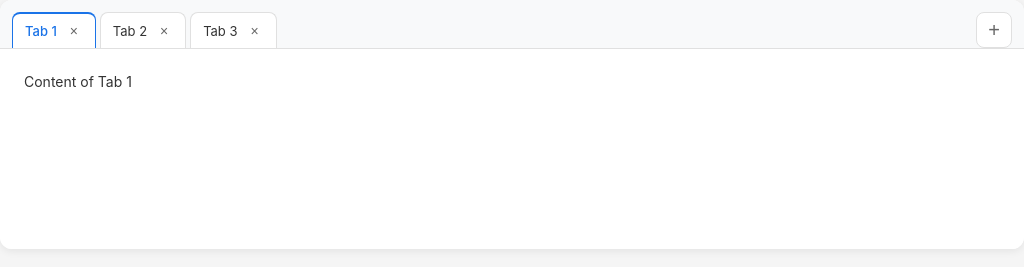
Scenario: TabContainer Component › closes a tab when close button is clicked
Click the text "Tab 2" at (130, 30), box [113,22,147,38]
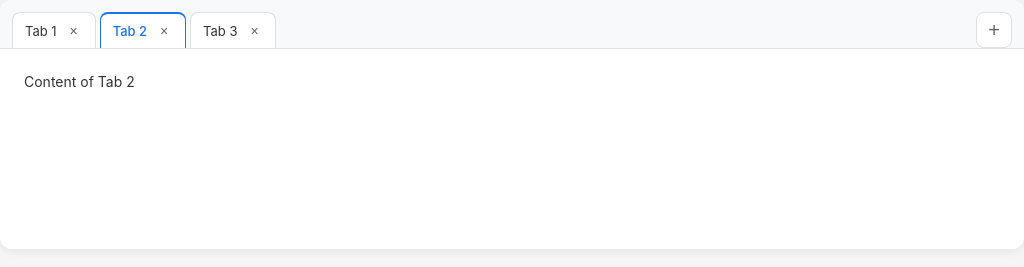
Click the button named "Close Tab" at (164, 31), box [155,22,173,40]
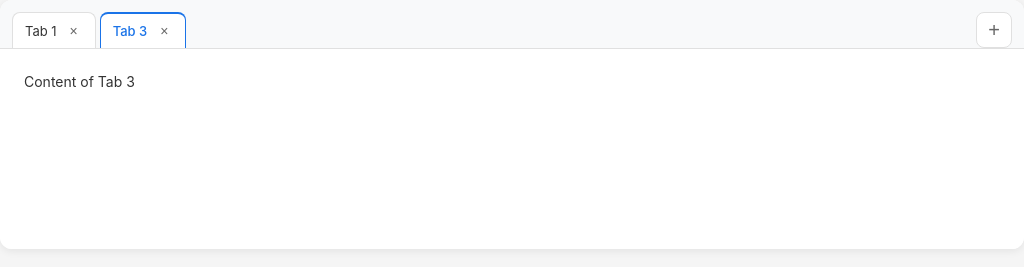
Expected: the text "Tab 2" is gone
